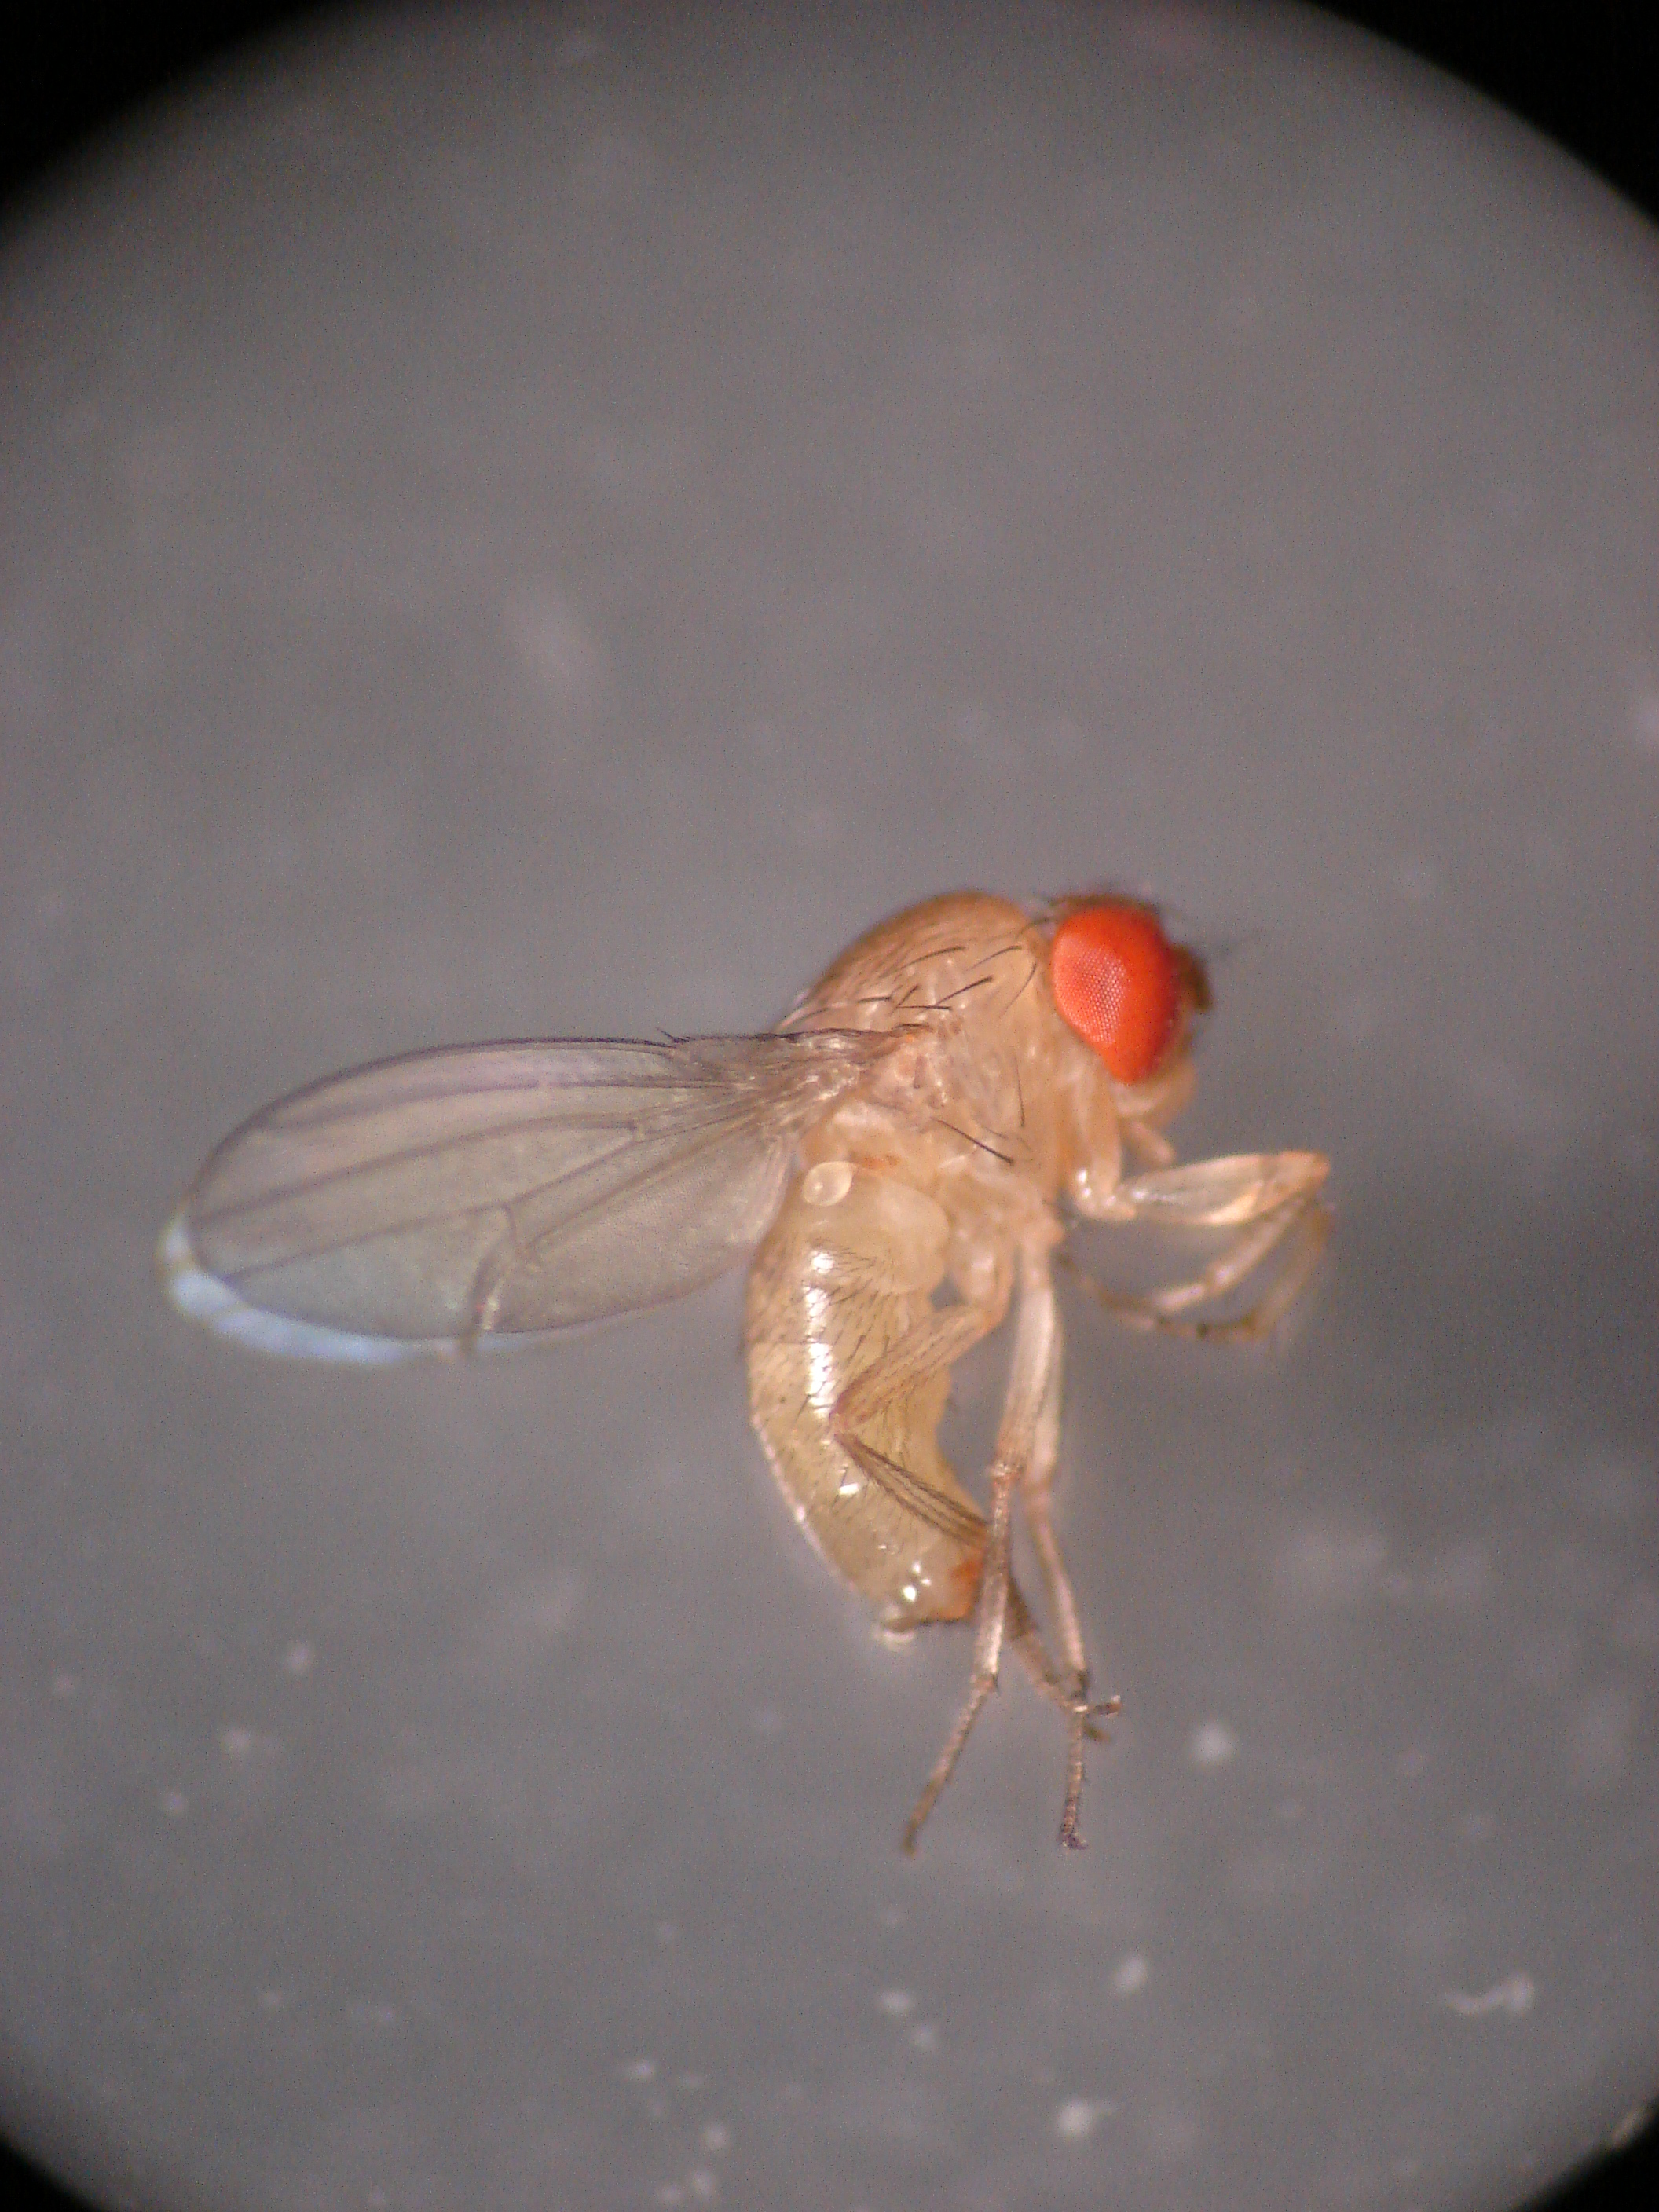Fruit fly: (184, 784, 1426, 1843)
